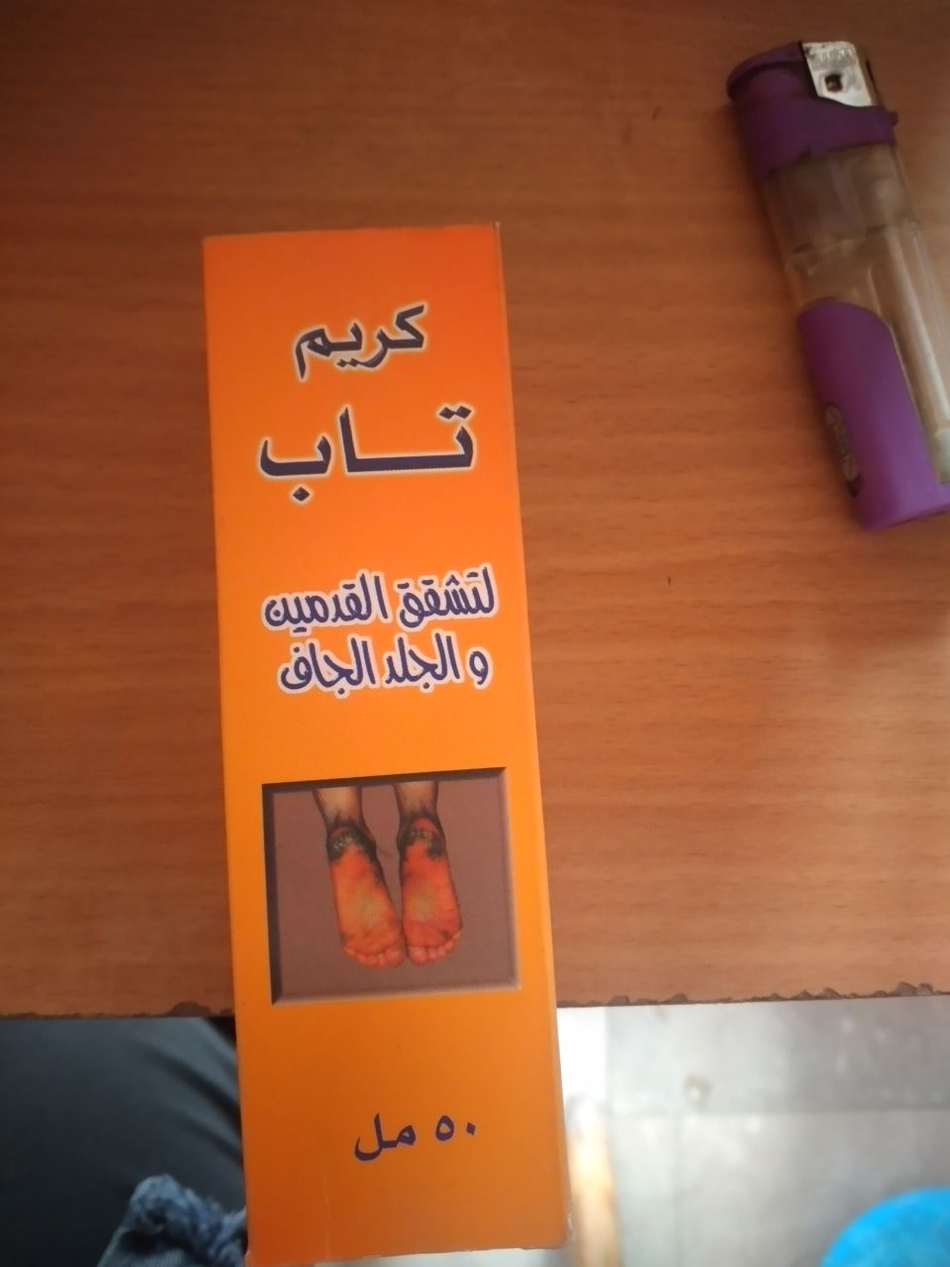Medicine: (198, 211, 571, 1254)
